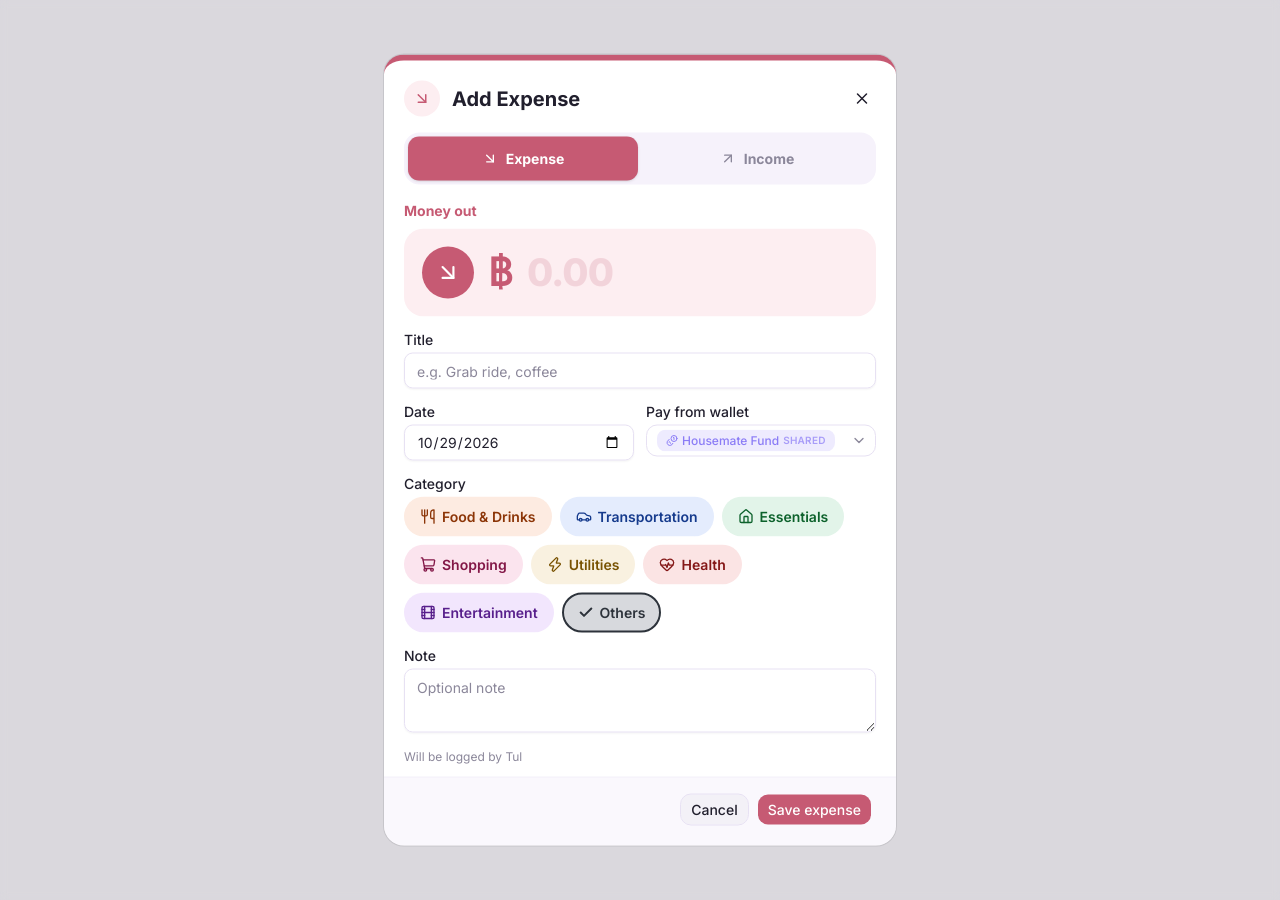
AddTransactionModal — shared wallet › switches to the income presets when the type changes
Click the radio button labelled "Income".
click(757, 158)  # box [642,136,872,180]
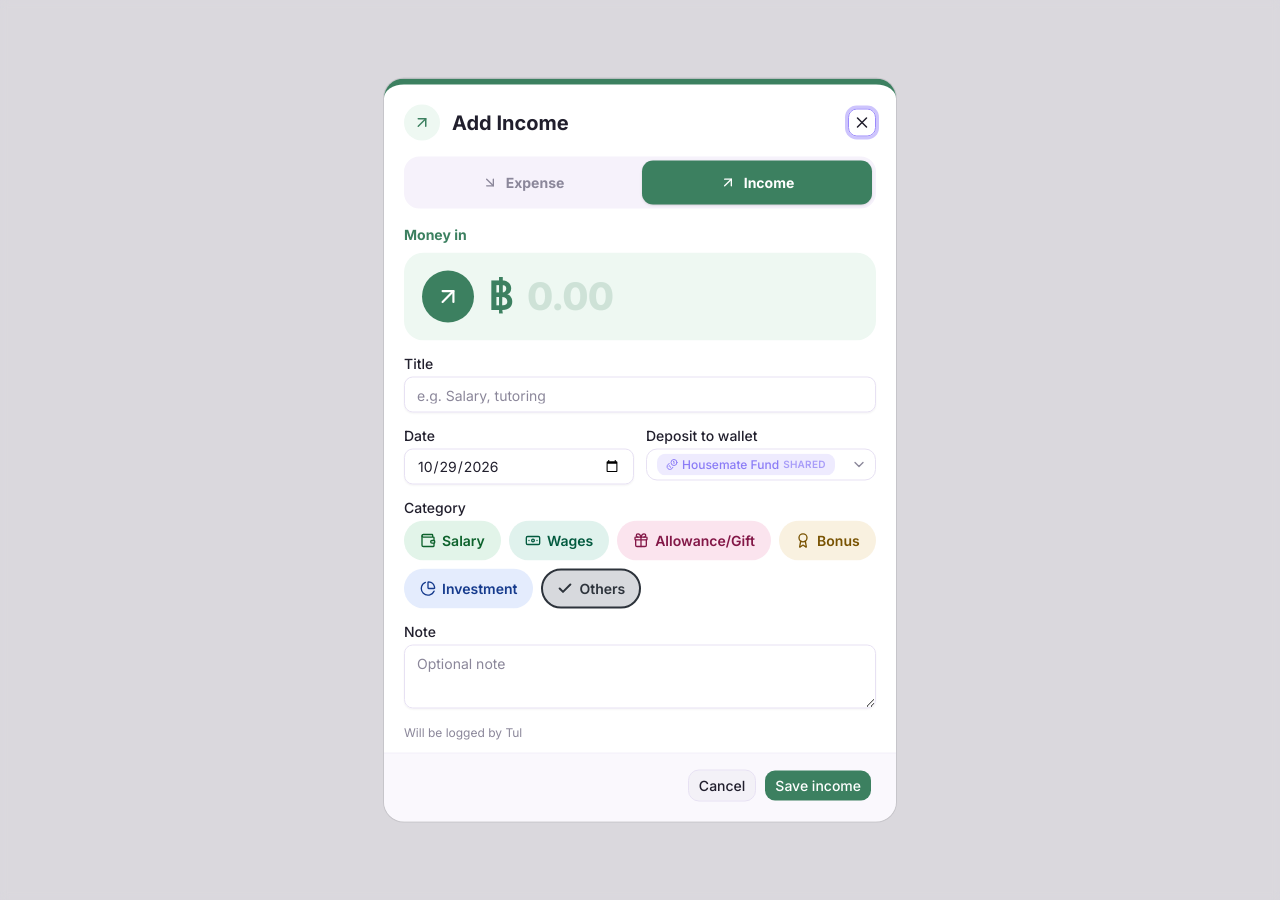
Expected: the radio button labelled "Salary" is shown, [404,520,501,560]
Expected: the radio button labelled "Food & Drinks" is gone
